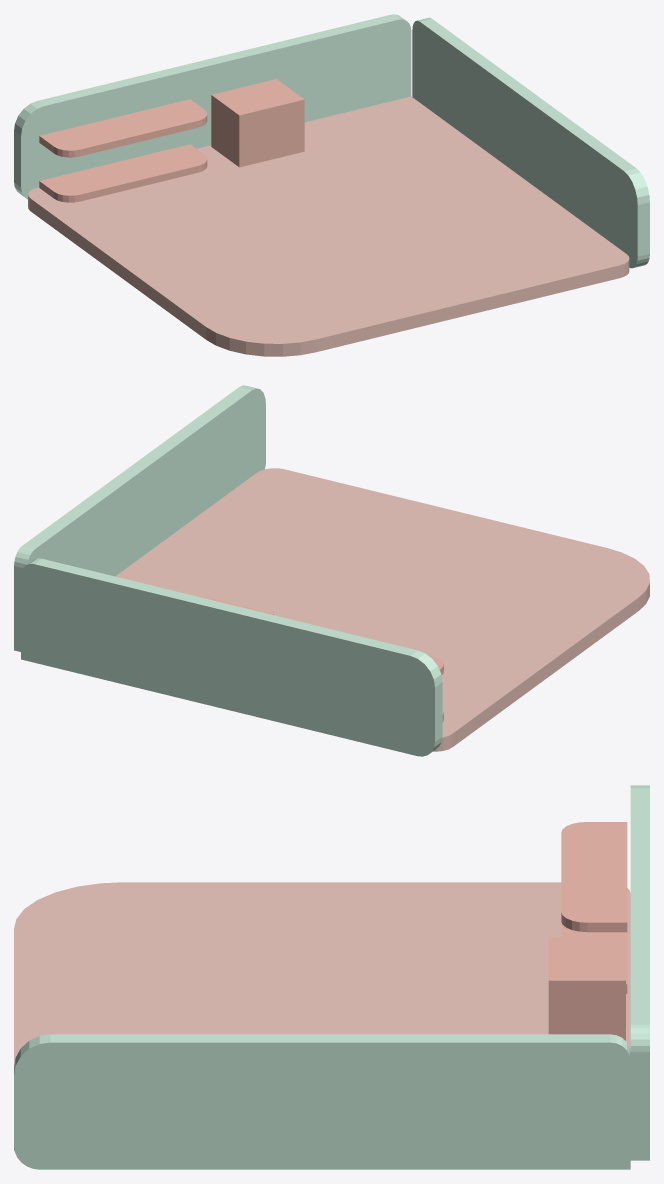
The model's file is store24.glb.
The picture shows the model from 3 angles, top to bottom: view 1: azimuth 30°, elevation 25°; view 2: azimuth 150°, elevation 25°; view 3: azimuth 270°, elevation 25°; orthographic projection. The views are drawn at different scales.
Bounding box in the file's own units: 3.09 × 0.6794 × 3.08.
